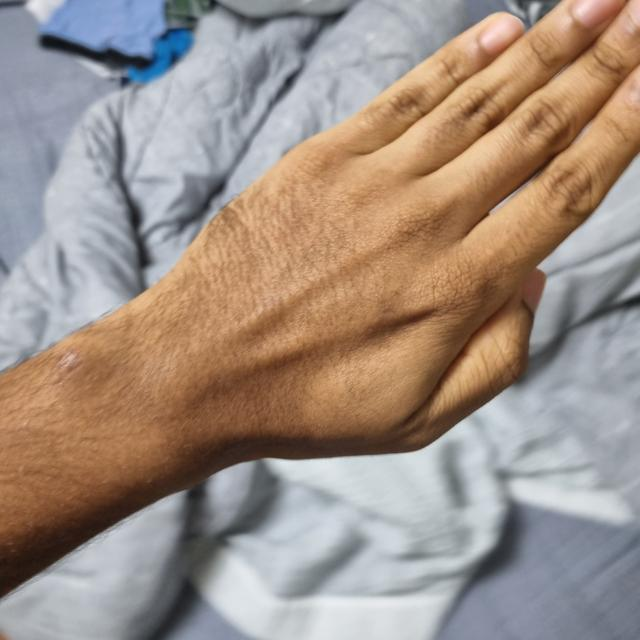Paper: (151, 4, 639, 458)
